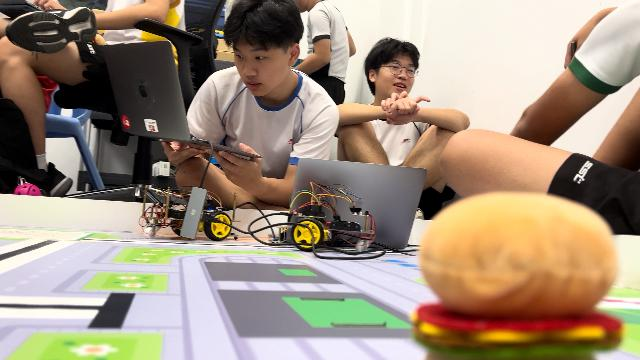burger: (410, 189, 624, 359)
